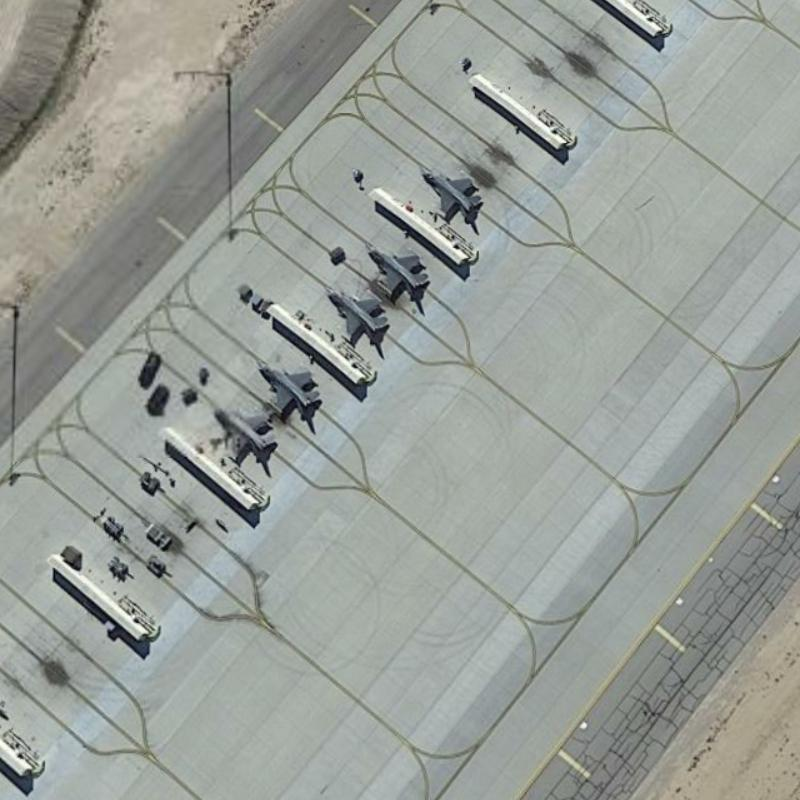A5: (408, 158, 492, 228), (360, 236, 442, 304), (248, 356, 326, 426), (200, 400, 279, 469), (319, 280, 397, 349)
